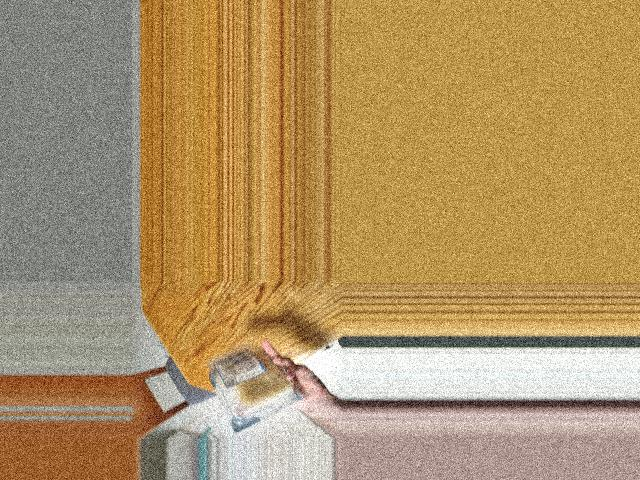cheese: (202, 345, 298, 421)
